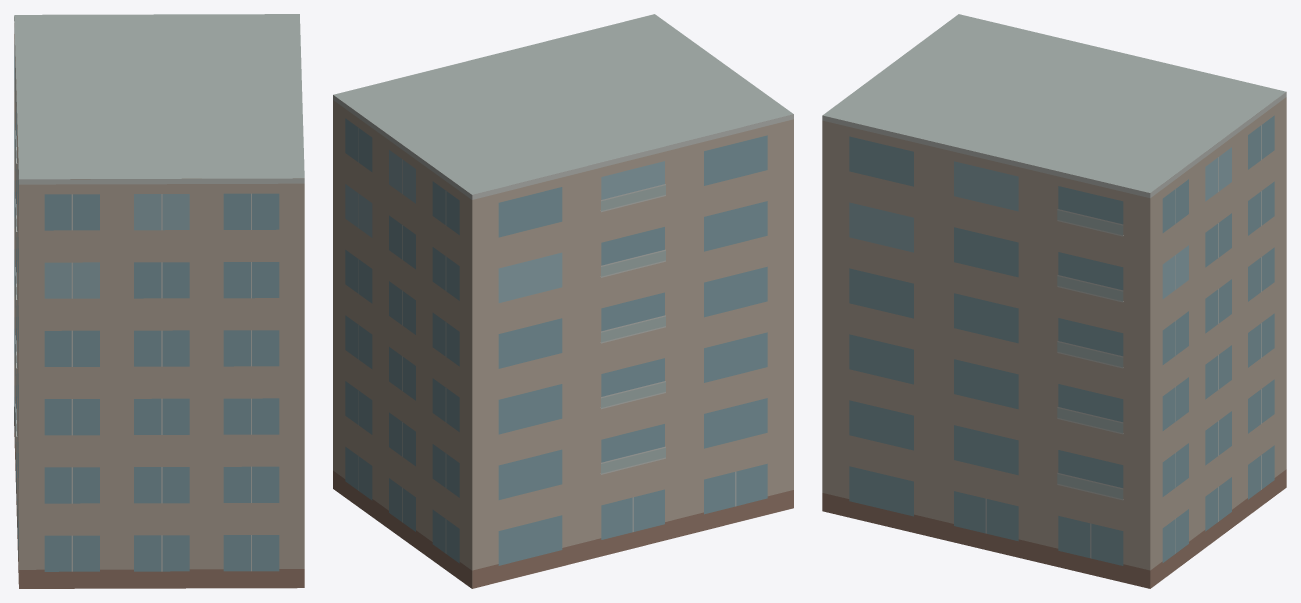
File: survey-upis-32963367.glb
3 views of the same model, side by side, from view 1: azimuth 30°, elevation 25°; view 2: azimuth 150°, elevation 25°; view 3: azimuth 270°, elevation 25° (orthographic). The views are drawn at different scales.
Visible parts, largest first — view 1: survey-upis-32963367.tmp; view 2: survey-upis-32963367.tmp; view 3: survey-upis-32963367.tmp.
Part boxes in pixels (<box>): survey-upis-32963367.tmp: <box>14,14,304,588</box>; survey-upis-32963367.tmp: <box>333,14,793,588</box>; survey-upis-32963367.tmp: <box>822,14,1286,588</box>.
Bounding box in the file's own units: 18.26 × 18.8 × 19.99.
